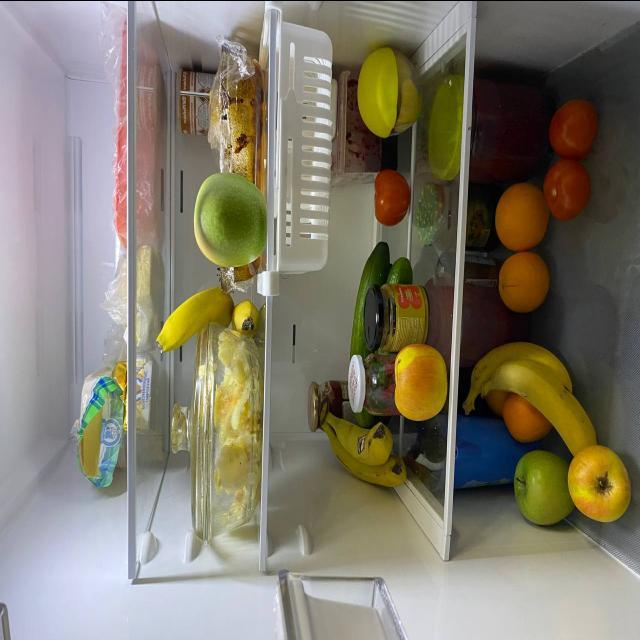Apple: (194, 169, 263, 267), (571, 444, 631, 523), (512, 454, 571, 526), (394, 345, 449, 419)
Banana: (467, 332, 590, 454), (320, 413, 407, 499), (157, 291, 231, 341), (231, 300, 260, 334)
Cucumber: (351, 234, 386, 366), (382, 248, 414, 292)
Orange: (491, 180, 549, 248), (494, 245, 551, 308), (505, 400, 549, 444), (486, 389, 506, 411)
Tomato: (549, 95, 594, 156), (543, 153, 582, 219), (370, 168, 410, 225)
